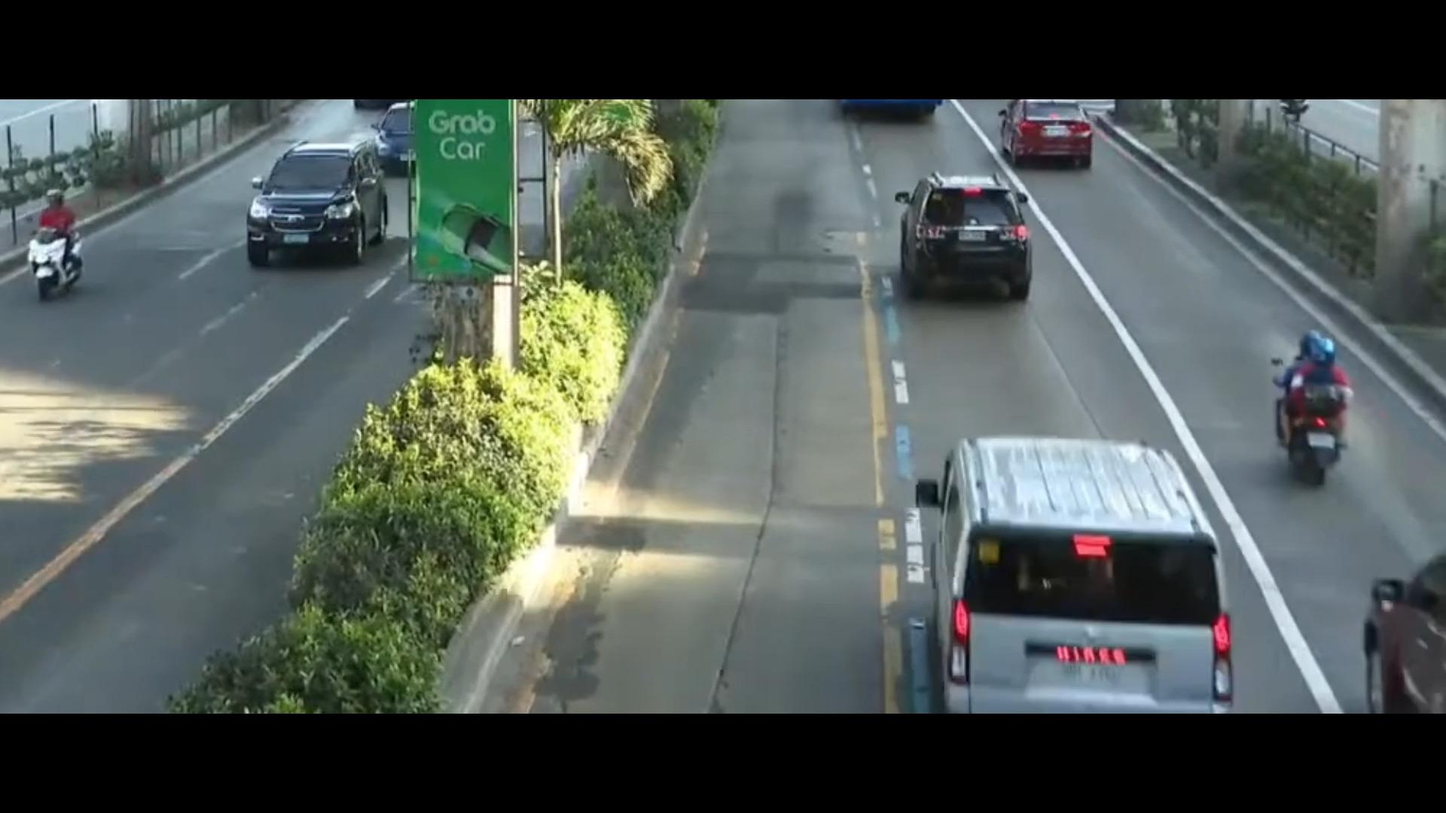Motorcycle: (1268, 309, 1356, 464), (15, 166, 104, 304)
SUV: (880, 166, 1087, 307), (239, 125, 385, 270)
Sedan: (1001, 91, 1104, 167), (360, 100, 415, 166)
Van: (865, 405, 1263, 706)
